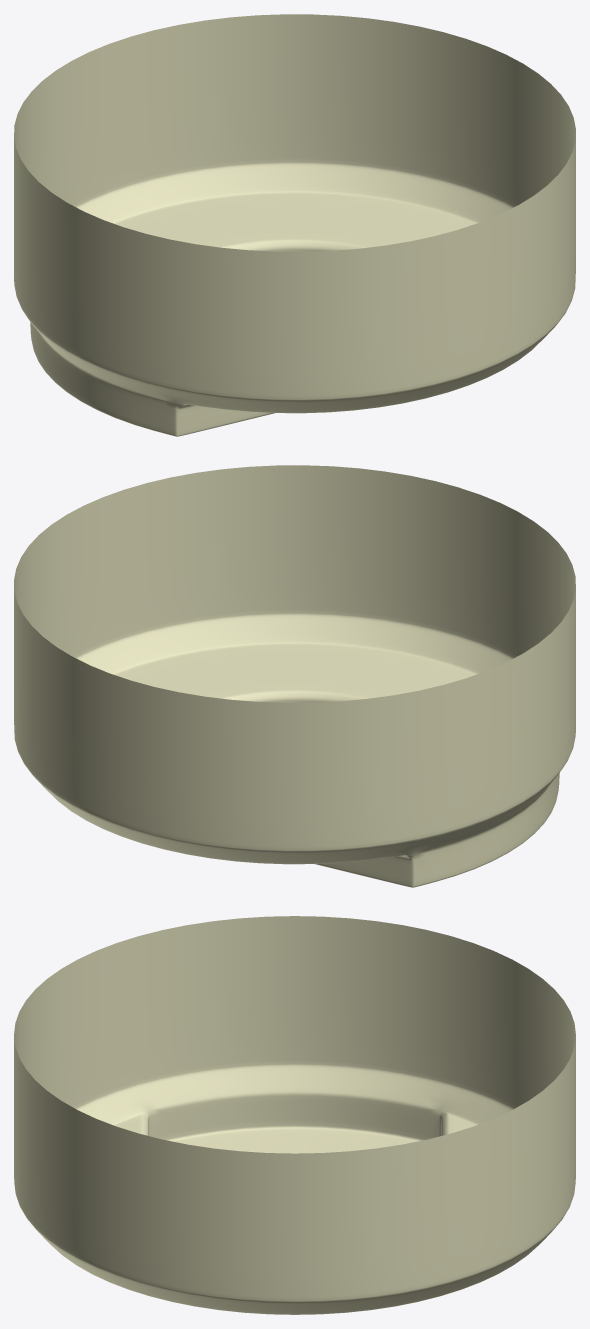
File: SM_Alarm_01.fbx
3 views of the same model, one above another, from view 1: azimuth 30°, elevation 25°; view 2: azimuth 150°, elevation 25°; view 3: azimuth 270°, elevation 25° (orthographic).
Visible parts, largest first — view 1: Cylinder; view 2: Cylinder; view 3: Cylinder.
Boxes of the visible parts, <box> form: Cylinder: <box>14,14,575,436</box>; Cylinder: <box>14,465,575,887</box>; Cylinder: <box>14,916,575,1314</box>.
Bounding box in the file's own units: 59.83 × 28.99 × 59.83.
